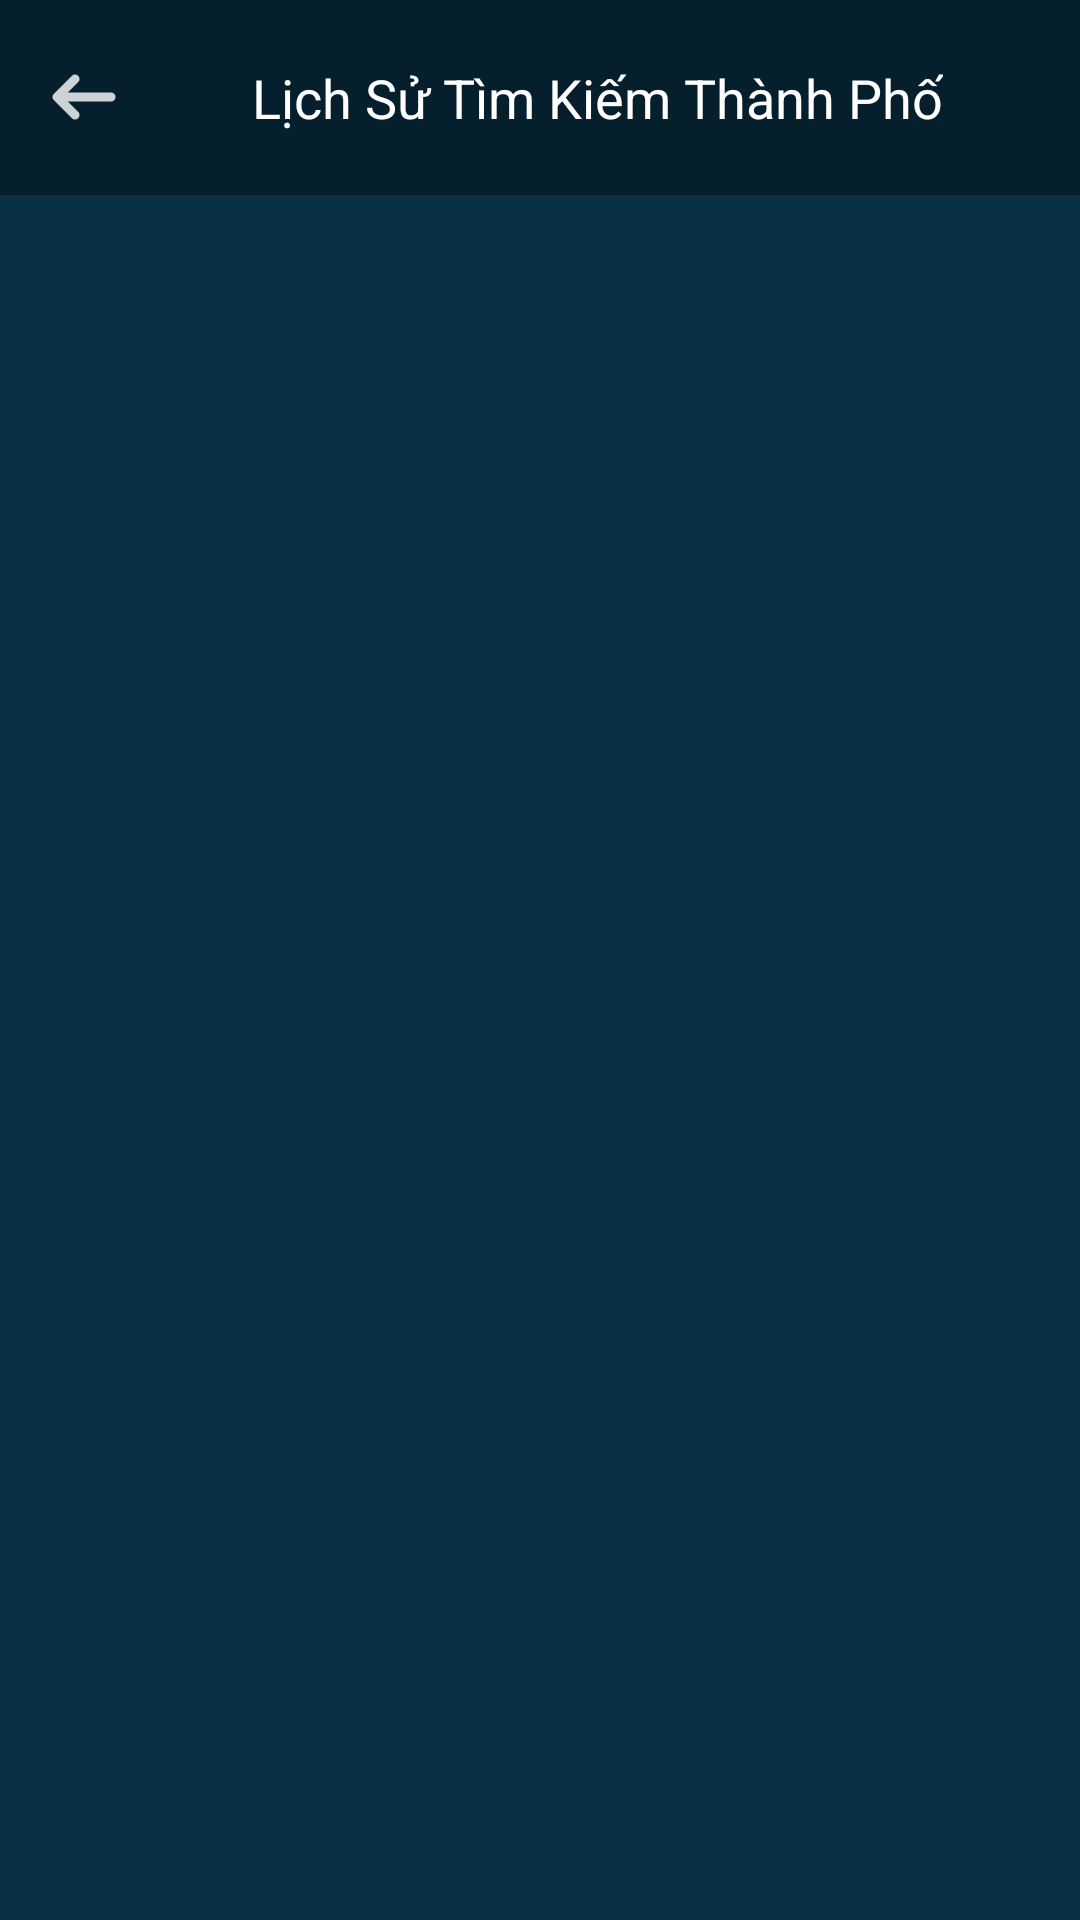

Point at icon controls on the screen. Image size 1080 × 1920, points as (x,y).
back: (84,97)
